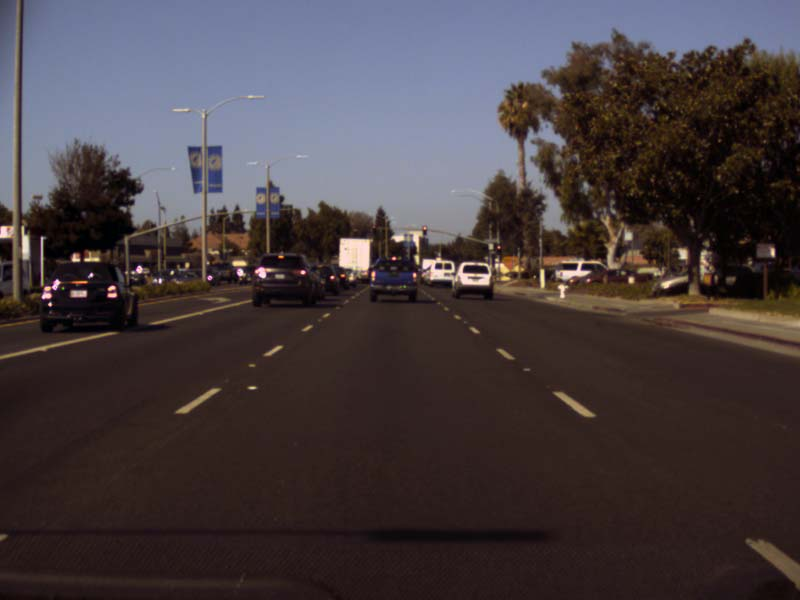Red: (496, 244, 501, 257), (421, 225, 426, 235), (372, 225, 376, 232)
